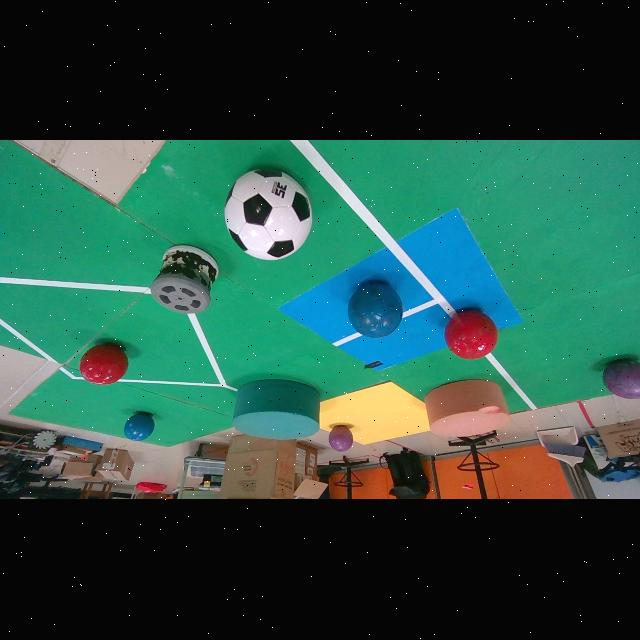B: (348, 282, 403, 339), (124, 414, 154, 442)
P: (603, 361, 640, 400), (329, 427, 353, 453)
R: (445, 312, 497, 361), (79, 346, 129, 386)
